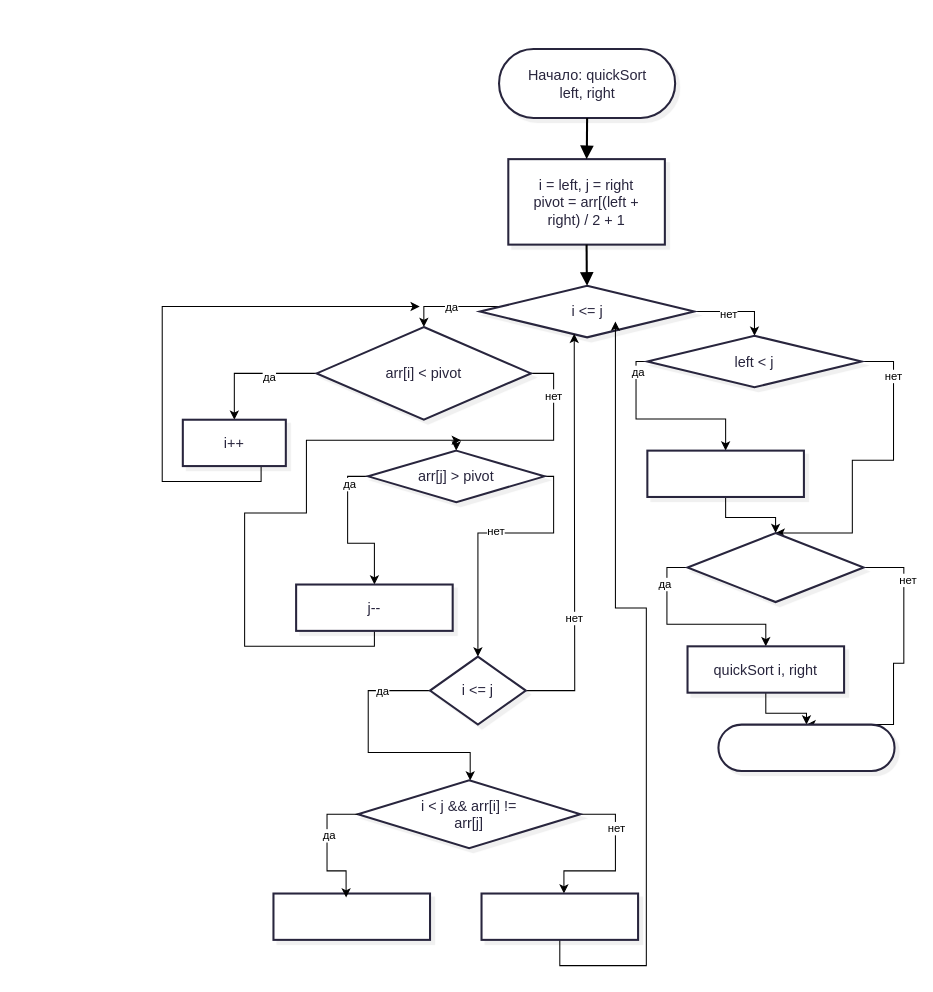
The diagram is 933 pixels wide and 992 high, and some of its shapes have lost their labels. Here are the shapes that lost their labels. From the top down, the centre of each, then its label:
(x=727, y=475): quickSort left, j
(x=777, y=569): i < right
(x=808, y=749): Конец
(x=353, y=918): swap arr[i
(x=561, y=918): NextStep
